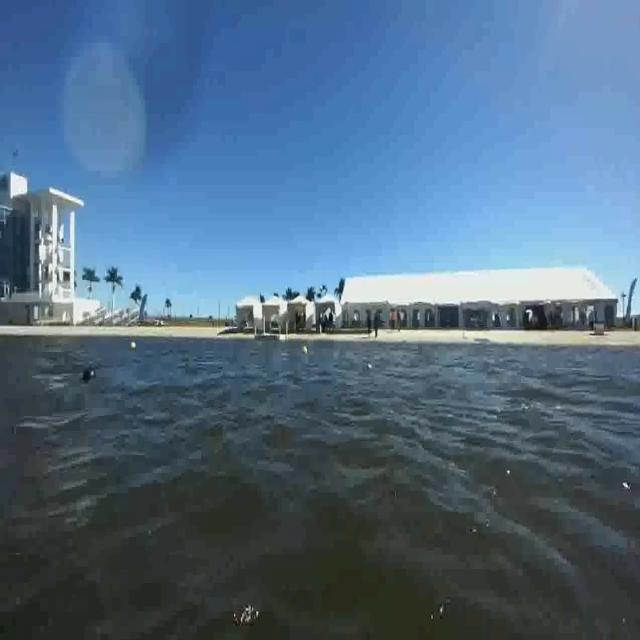black-buoy: (82, 364, 96, 384)
